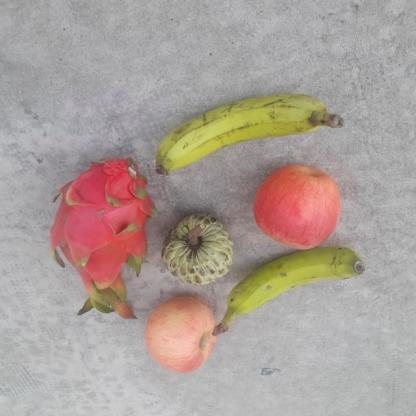annona: (161, 211, 235, 285)
apple: (253, 163, 341, 250), (144, 295, 219, 374)
banana: (155, 95, 368, 177), (207, 246, 365, 336)
pitaya: (46, 158, 156, 321)
